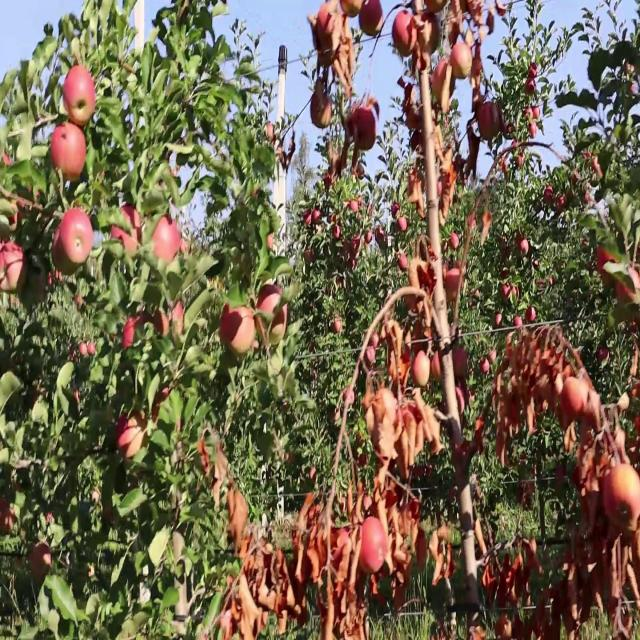apple: (52, 127, 88, 183), (608, 469, 640, 532), (64, 71, 97, 128), (64, 206, 95, 265), (256, 284, 288, 338), (316, 7, 345, 64), (617, 469, 640, 540), (224, 305, 256, 356), (112, 206, 143, 258), (360, 519, 388, 574), (116, 412, 148, 460), (220, 305, 248, 354), (152, 220, 181, 265), (372, 391, 399, 439), (560, 376, 586, 425), (52, 227, 77, 277), (580, 391, 601, 446), (392, 14, 416, 59), (356, 106, 378, 155), (124, 312, 151, 350), (116, 412, 139, 455), (28, 540, 52, 581), (228, 490, 248, 539), (596, 248, 619, 290), (4, 248, 27, 290), (312, 85, 333, 130), (580, 391, 601, 434), (388, 535, 411, 574), (412, 526, 431, 572), (616, 270, 640, 306), (361, 0, 384, 37), (452, 42, 472, 82), (606, 426, 626, 466), (336, 42, 355, 84), (480, 99, 499, 140), (200, 433, 218, 475), (152, 391, 172, 428), (152, 391, 172, 427), (444, 7, 463, 44), (412, 355, 432, 389), (548, 371, 565, 411), (536, 362, 552, 404), (432, 63, 451, 98), (236, 526, 255, 560), (0, 497, 16, 537), (420, 21, 440, 53), (172, 305, 187, 347), (300, 497, 319, 530), (124, 319, 144, 350), (508, 334, 525, 370), (628, 419, 640, 469), (628, 419, 640, 468), (488, 106, 504, 142), (468, 120, 481, 164), (520, 540, 539, 569), (624, 63, 640, 96), (156, 305, 171, 340), (472, 49, 484, 91), (452, 348, 469, 377), (216, 611, 234, 638), (596, 433, 609, 469), (344, 103, 356, 139), (212, 478, 226, 507), (556, 462, 568, 494), (344, 0, 363, 20), (400, 348, 413, 377), (580, 369, 593, 396), (396, 206, 408, 235), (424, 0, 445, 16), (472, 56, 484, 84), (516, 234, 530, 258), (216, 455, 229, 480), (468, 7, 484, 27), (472, 92, 486, 114), (80, 341, 97, 359), (544, 184, 556, 208), (464, 28, 477, 50), (500, 398, 512, 421), (485, 7, 496, 32), (628, 312, 640, 334), (352, 234, 363, 258), (332, 220, 343, 242), (376, 227, 387, 249), (496, 0, 508, 20), (420, 56, 432, 73), (500, 284, 511, 302), (556, 199, 568, 215), (400, 255, 409, 276), (332, 319, 344, 334), (600, 348, 611, 363), (44, 511, 55, 526), (496, 7, 508, 20), (512, 284, 521, 300), (312, 469, 317, 484), (76, 391, 81, 405)
